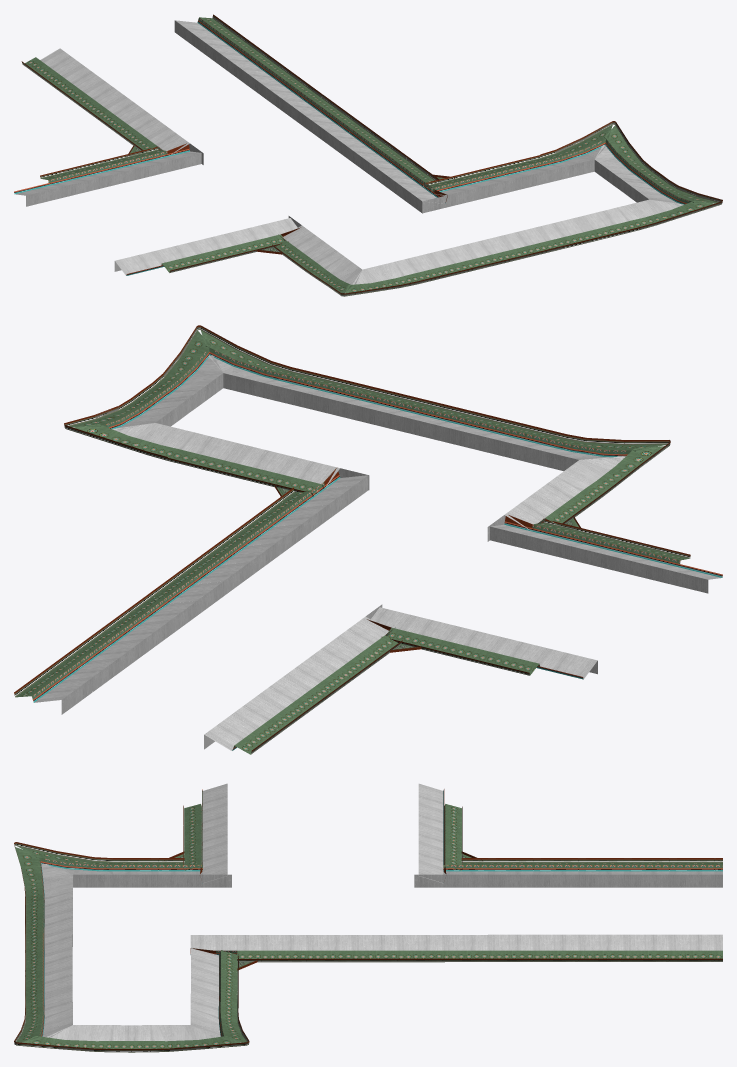
Rendered from SM_Roofplate09H.fbx.
3 renders of one model, top to bottom at view 1: azimuth 30°, elevation 25°; view 2: azimuth 150°, elevation 25°; view 3: azimuth 270°, elevation 25°, orthographic. The views are drawn at different scales.
Visible parts, largest first — view 1: SM_Roofplate09H; view 2: SM_Roofplate09H; view 3: SM_Roofplate09H.
Boxes of the visible parts, x1,y1,x2,y2 form: SM_Roofplate09H: [14, 14, 722, 296]; SM_Roofplate09H: [14, 325, 722, 754]; SM_Roofplate09H: [14, 783, 722, 1052].
Size of the model in its own units: 2317 by 2595 by 85.54.
